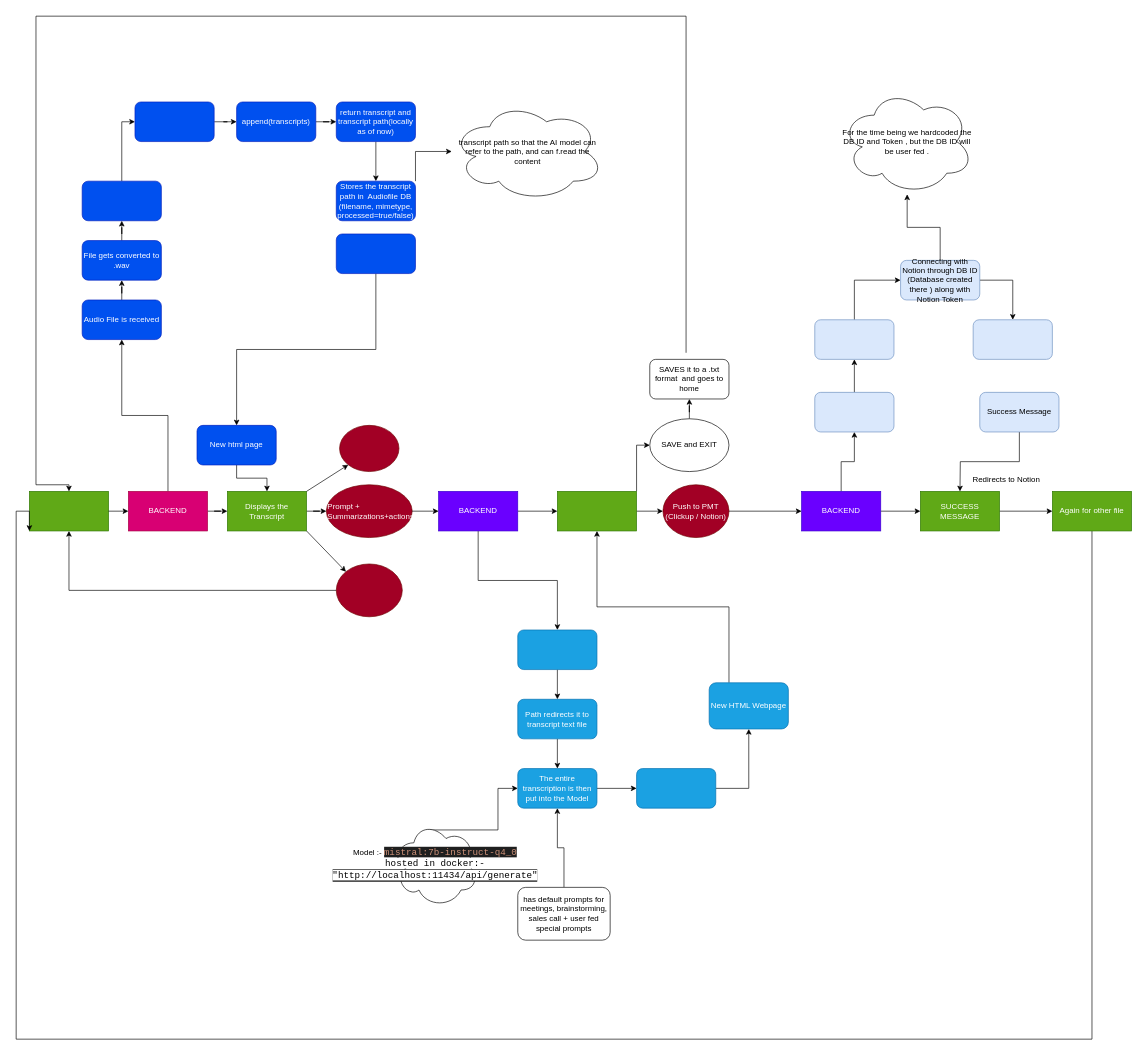
Image size: 1143x1056. Some labels were removed from this diagram. Here are the shapes that lost their labels. From the top down, the centre of each, then its label:
point (174, 121): Each chunk is transcribed (OpenAi's Faster/WhisperModel, large -v3)
point (121, 201): .wav file gets chunked into frame of 60 secs
point (375, 253): Processed = true error msg = none
point (854, 339): Json Payload created comprising of action , decisions, task completion
point (1012, 339): Pushed
point (854, 412): Actions Decisions are seperated using regex
point (369, 448): Save to .pdf/.docx./.txt
point (69, 511): Audio File Input (.wav, .mp3, .m4a, .dat)
point (597, 511): Summarization + Classification into Action , Decision, DoC, Tasks, Status
point (369, 590): Exit
point (557, 649): Refers to the transcript path
point (676, 788): Classified into actions , decision, task status etc. + user fed prompt reply
